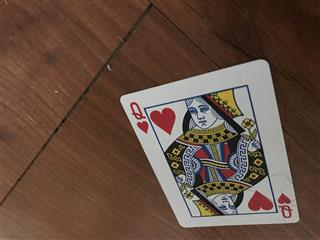QueenOfHearts: (118, 57, 300, 227)
